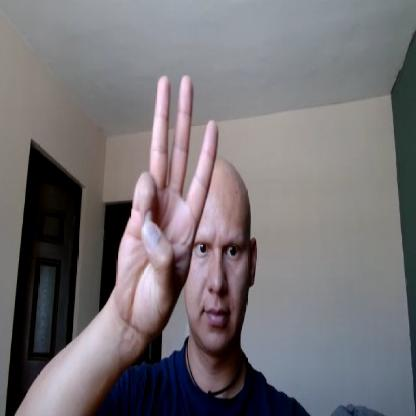W: (115, 70, 220, 320)
